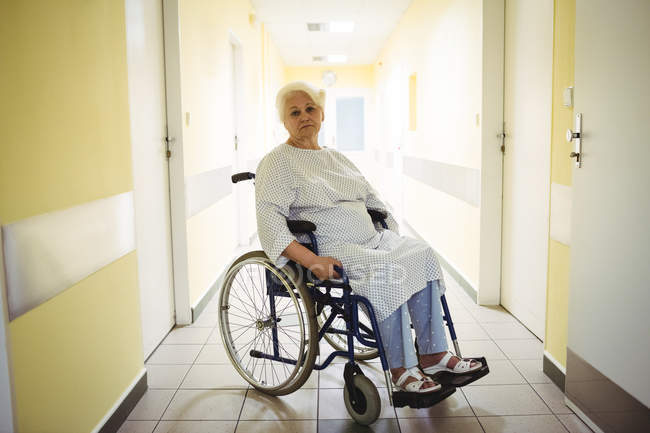wheelchair: (217, 82, 490, 423)
